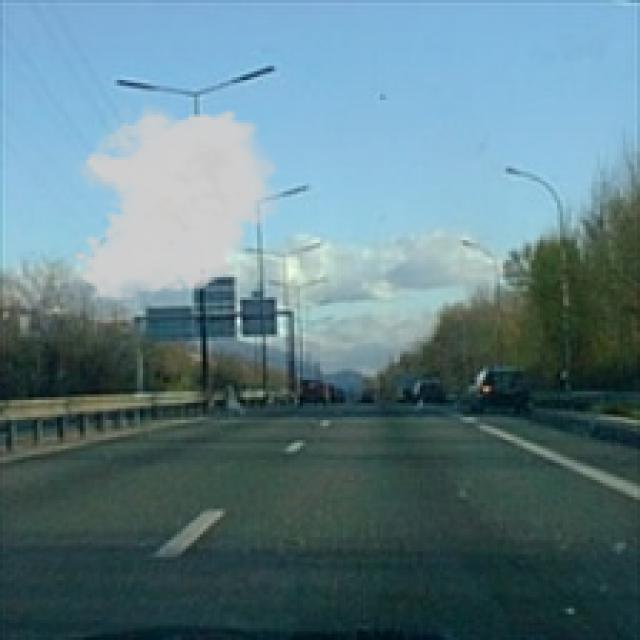smoke: (72, 97, 288, 303)
